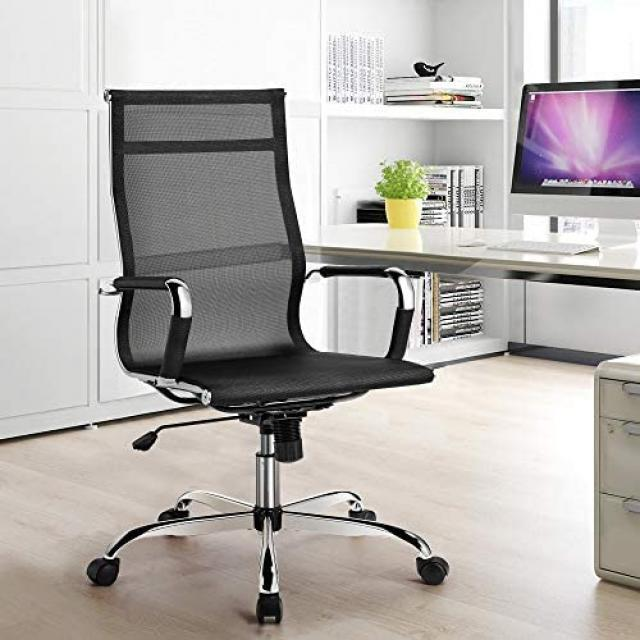chair: (83, 88, 454, 622)
